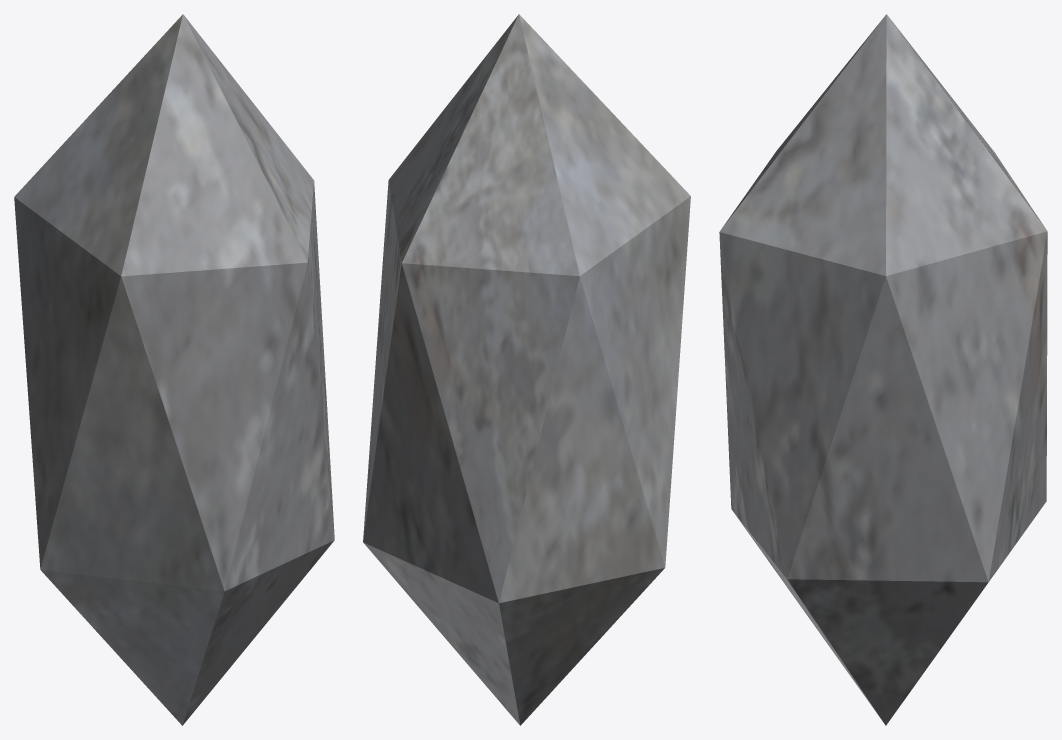
The model's file is mg_12_crystal_4.fbx.
3 views of the same model, side by side, from view 1: azimuth 30°, elevation 25°; view 2: azimuth 150°, elevation 25°; view 3: azimuth 270°, elevation 25° (orthographic).
Visible parts, largest first — view 1: mg_12_crystal_4; view 2: mg_12_crystal_4; view 3: mg_12_crystal_4.
Boxes of the visible parts, left/top/right/bottom form: mg_12_crystal_4: left=14, top=14, right=334, bottom=725; mg_12_crystal_4: left=363, top=14, right=690, bottom=725; mg_12_crystal_4: left=719, top=14, right=1047, bottom=725.
Bounding box in the file's own units: 7.52 × 18.58 × 7.75.
